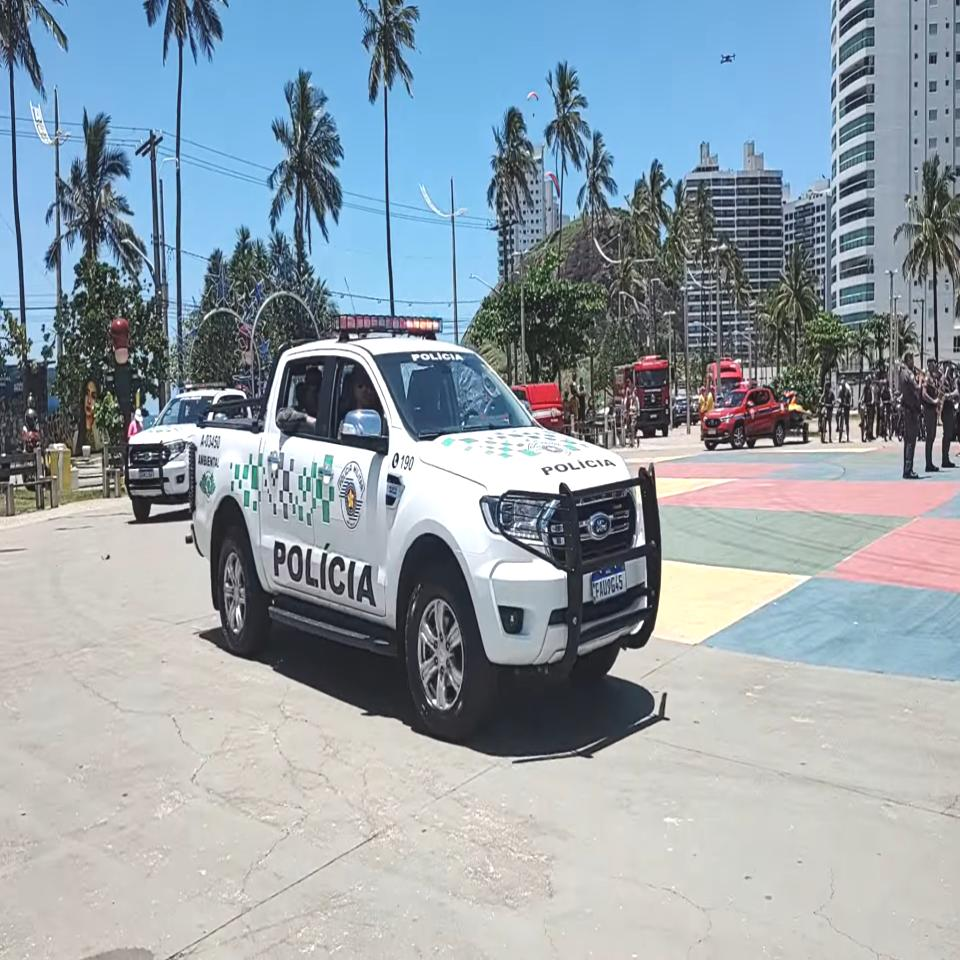viatura: (183, 308, 668, 739)
